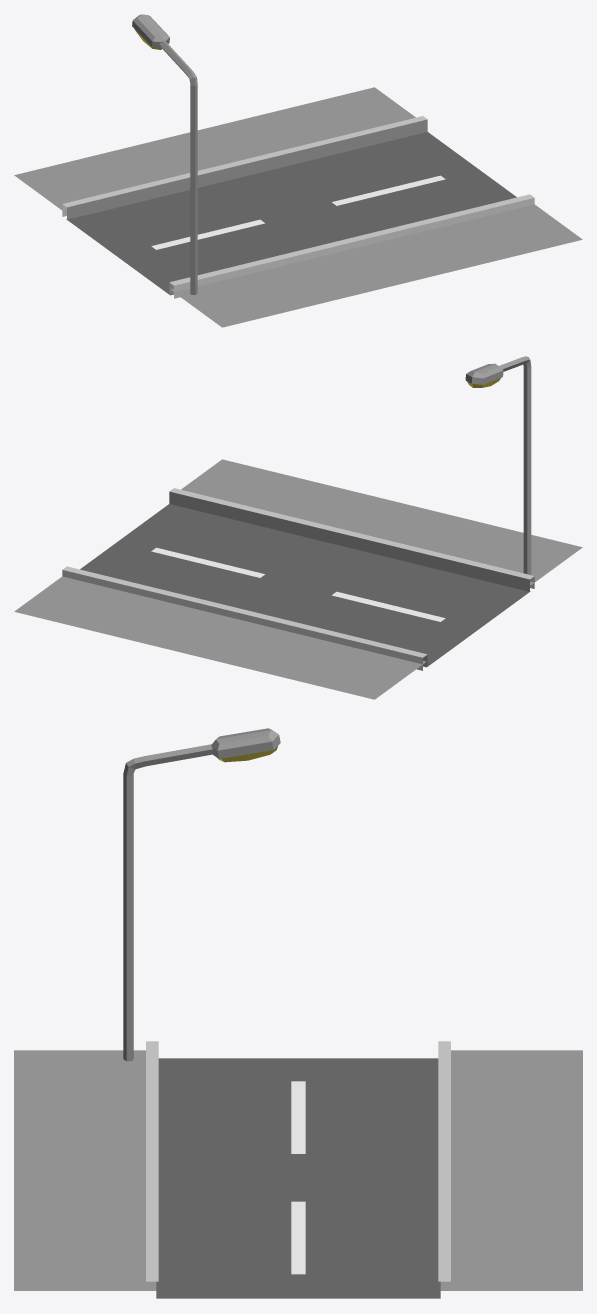
The model's file is street-straight-transformed.glb.
3 renders of one model, top to bottom at view 1: azimuth 30°, elevation 25°; view 2: azimuth 150°, elevation 25°; view 3: azimuth 270°, elevation 25°, orthographic. The views are drawn at different scales.
Parts seen in each view (by area): view 1: city_private_houses.001; view 2: city_private_houses.001; view 3: city_private_houses.001.
Boxes of the visible parts, x1=… form: city_private_houses.001: x1=14, y1=14, x2=582, y2=327; city_private_houses.001: x1=14, y1=356, x2=582, y2=699; city_private_houses.001: x1=14, y1=728, x2=582, y2=1298.
Size of the model in its own units: 8 by 5.25 by 8.
1 material, 1 textured.
